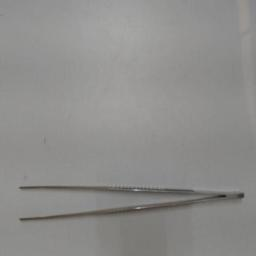DeBakey Dissector: (8, 172, 254, 232)
